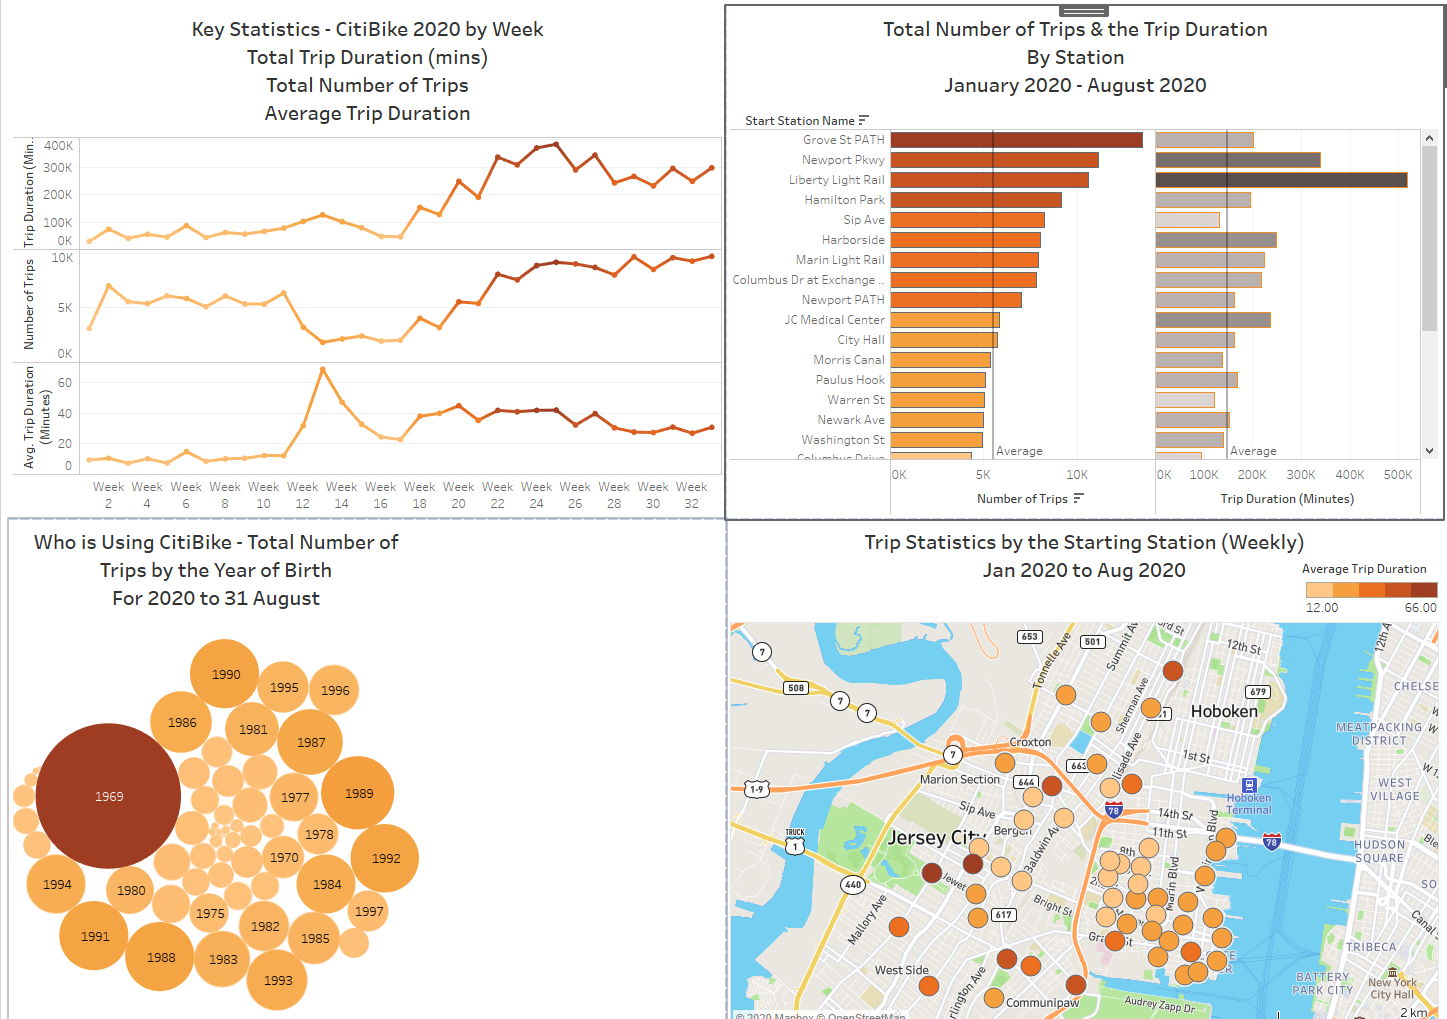

What the dashboard file says about the page in this screenshot:
{"tool":"tableau","page":{"name":"Key Stats Dashboard 1","canvas":[1000,1000],"units":"permille","ordinal":0},"visuals":[{"type":"worksheet","box":[0,0,1000,1000]},{"type":"worksheet","param":"horz","box":[5.5,7.7,989,984.6]},{"type":"worksheet","param":"horz","box":[5.5,7.7,989,984.6]},{"type":"worksheet","param":"horz","box":[5.5,7.7,989,984.6]},{"type":"worksheet","param":"horz","box":[5.5,7.7,989,984.6]},{"type":"worksheet","box":[5.5,7.7,989,984.6]},{"type":"worksheet","title":"Key Stats on 1 chart","mark":"Automatic","rows":["Calculation_1431581766920511490","Calculation_1431581766949429251","Calculation_1431581766920511490"],"cols":["StartDate"],"box":[5.5,7.7,494.5,492.3]},{"type":"worksheet","title":"Stations # and duration of trips","mark":"Automatic","rows":["start station name"],"cols":["Calculation_1431581766949429251","Calculation_1431581766920511490","Calculation_1431581766920511490"],"box":[500,7.7,494.5,492.3]},{"type":"worksheet","title":"Bubble - birth yr, # of trips","mark":"Circle","box":[5.5,500,494.5,492.3]},{"type":"worksheet","title":"Map of trips from Starting Station","mark":"Circle","rows":["start station latitude"],"cols":["start station longitude"],"box":[500,500,494.5,492.3]},{"type":"worksheet","title":"Map of trips from Starting Station","mark":"Circle","rows":["start station latitude"],"cols":["start station longitude"],"param":"[federated.0bvudi910rtsws1e2sxjq0r2rjxx].[usr:Calculation_1431581766949429251:qk","box":[897.2,539.4,96.5,72.9]}]}

Visuals, with their boxes on the dashboard's canvas, which has no fixed pixel size, in thousandths of its width and height (x1, y1, x2, y2). These are canvas units, not pixel positions in the 1447x1019 screenshot, which may show the page scaled, cropped or inside an application window:
worksheet: BBox(0, 0, 1000, 1000)
worksheet: BBox(6, 8, 994, 992)
worksheet: BBox(6, 8, 994, 992)
worksheet: BBox(6, 8, 994, 992)
worksheet: BBox(6, 8, 994, 992)
worksheet: BBox(6, 8, 994, 992)
"Key Stats on 1 chart" worksheet: BBox(6, 8, 500, 500)
"Stations # and duration of trips" worksheet: BBox(500, 8, 994, 500)
"Bubble - birth yr, # of trips" worksheet (Circle marks): BBox(6, 500, 500, 992)
"Map of trips from Starting Station" worksheet (Circle marks): BBox(500, 500, 994, 992)
"Map of trips from Starting Station" worksheet (Circle marks): BBox(897, 539, 994, 612)
